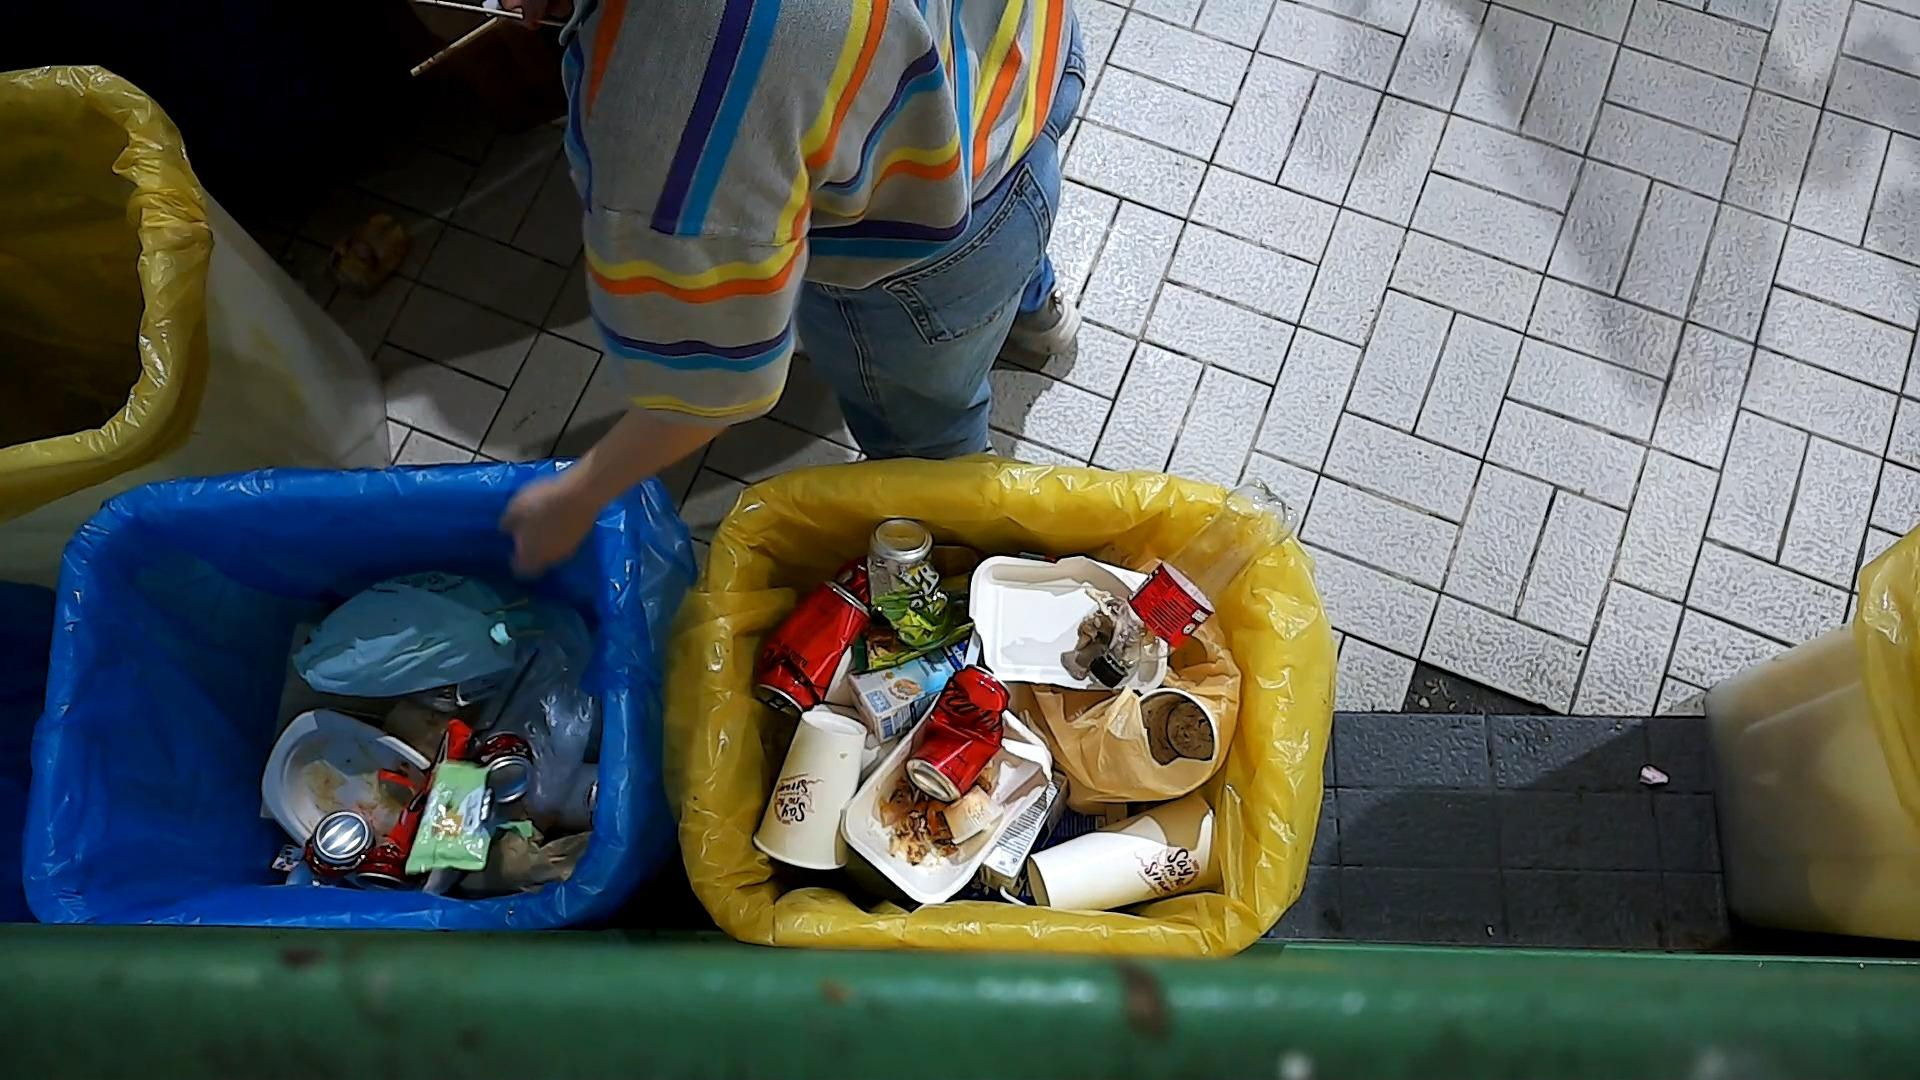can: (749, 575, 874, 721), (901, 662, 1015, 806), (864, 514, 957, 655), (301, 806, 378, 884), (469, 728, 539, 807), (351, 841, 417, 890)
dirty food container: (836, 686, 1056, 910), (965, 549, 1174, 695), (938, 778, 1007, 847)
filled plastic bag: (1027, 625, 1254, 816), (285, 562, 545, 702)
food container: (256, 703, 438, 858)
milk carton: (847, 632, 975, 753), (980, 762, 1073, 911)
paper bag: (451, 820, 597, 899)
plastic bag: (462, 576, 600, 820)
plastic bottle: (1084, 472, 1307, 690)
plastic cutlery: (460, 642, 543, 771)
snack packaging: (404, 757, 547, 874), (373, 715, 477, 861)
sticks: (405, 4, 525, 86), (413, 0, 580, 34)
zero waste cup: (1023, 787, 1226, 918), (749, 708, 868, 873)
